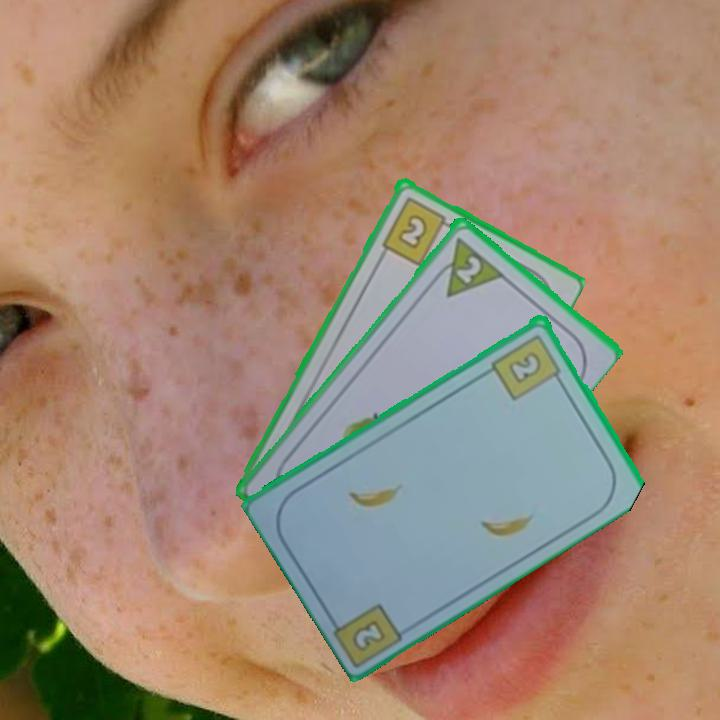2b: (378, 192, 456, 268), (488, 330, 566, 403), (348, 616, 389, 651)
2p: (452, 251, 485, 286)
